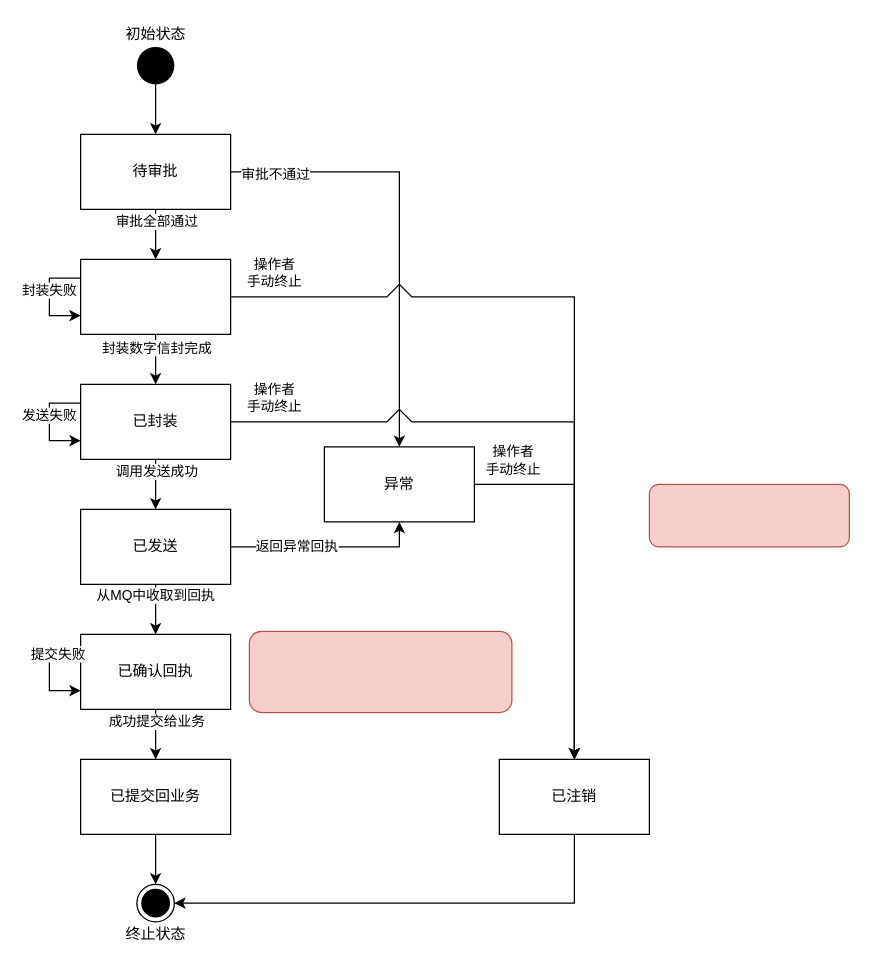
This 871x968 diagram has some shape labels left out. The box of each missing label's shape, as (x1, y1, x2, y2) in pixels:
假设银行一定会收到文件，而即使银行认为文件有问题拒绝接收也应该返回异常的回执: (648, 483, 849, 547)
已审批: (79, 258, 231, 334)
已经收到回执的情况下不可能不知会银行而单方面终止流程，因此不提供取消操作，除非线下沟通确定一切完毕后有管理员在数据库层面操作。: (248, 630, 512, 712)
